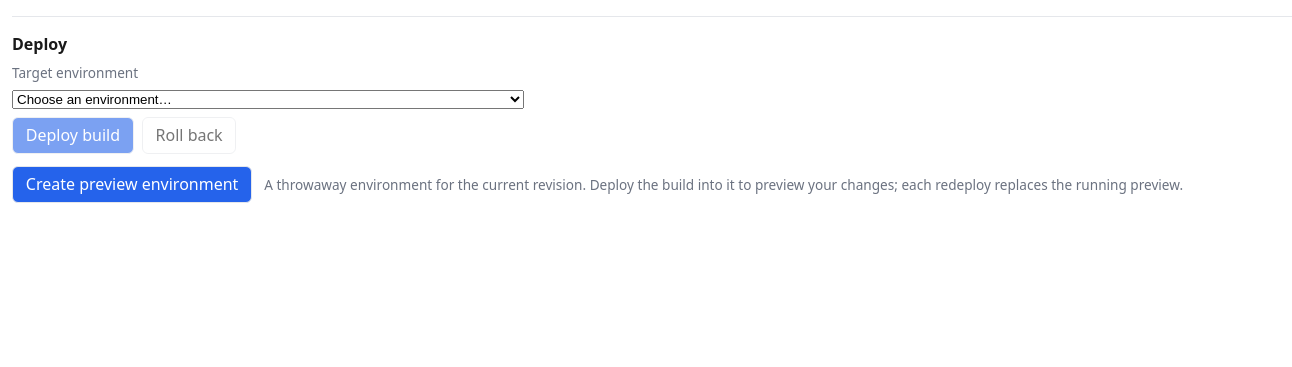
DeployPanel › rolls an environment back through Cloud
The width and height of the screenshot is (1292, 367).
Select "production (persistent)" in the dropdown labelled "Target environment": (268, 100) [12,90,524,109]
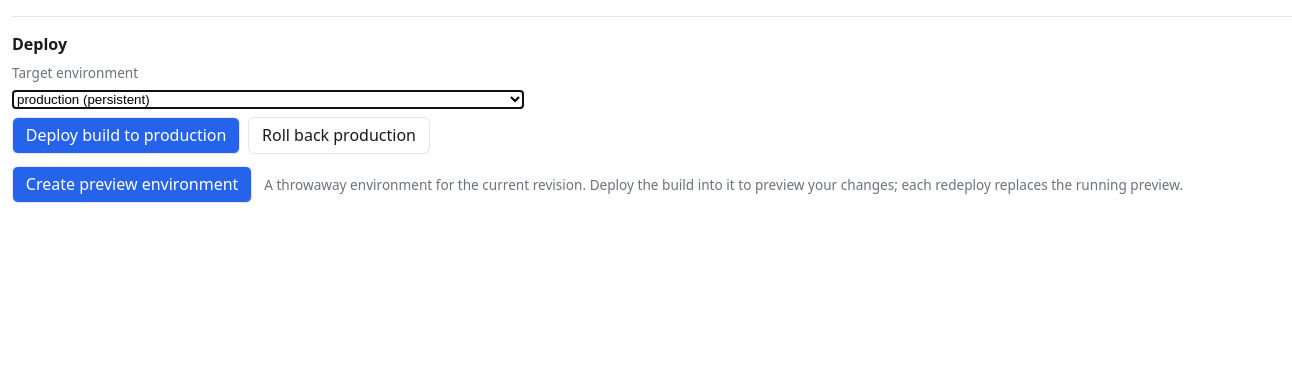
Click the button "Roll back production": click(339, 135) [248,117,430,154]
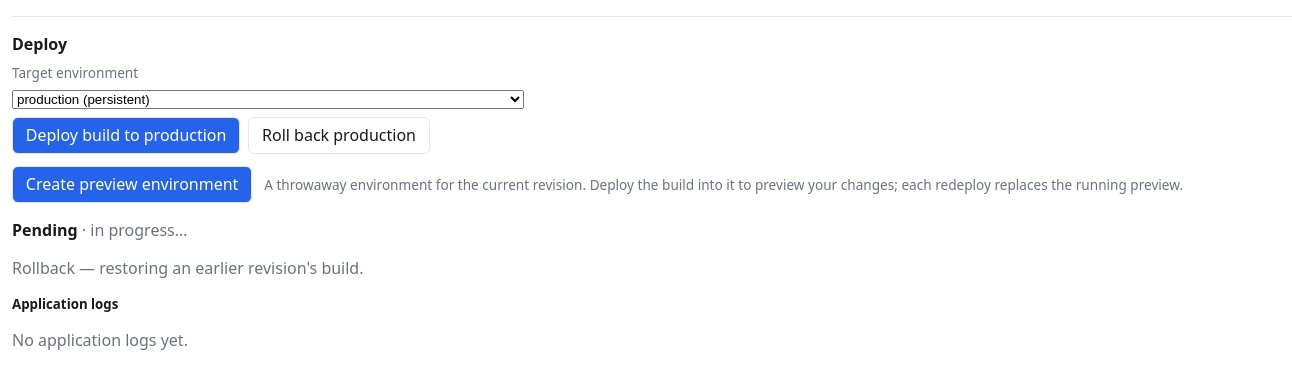
Now the text "Rollback — restoring an earlier revision's build." is shown, box [12,257,364,279]
